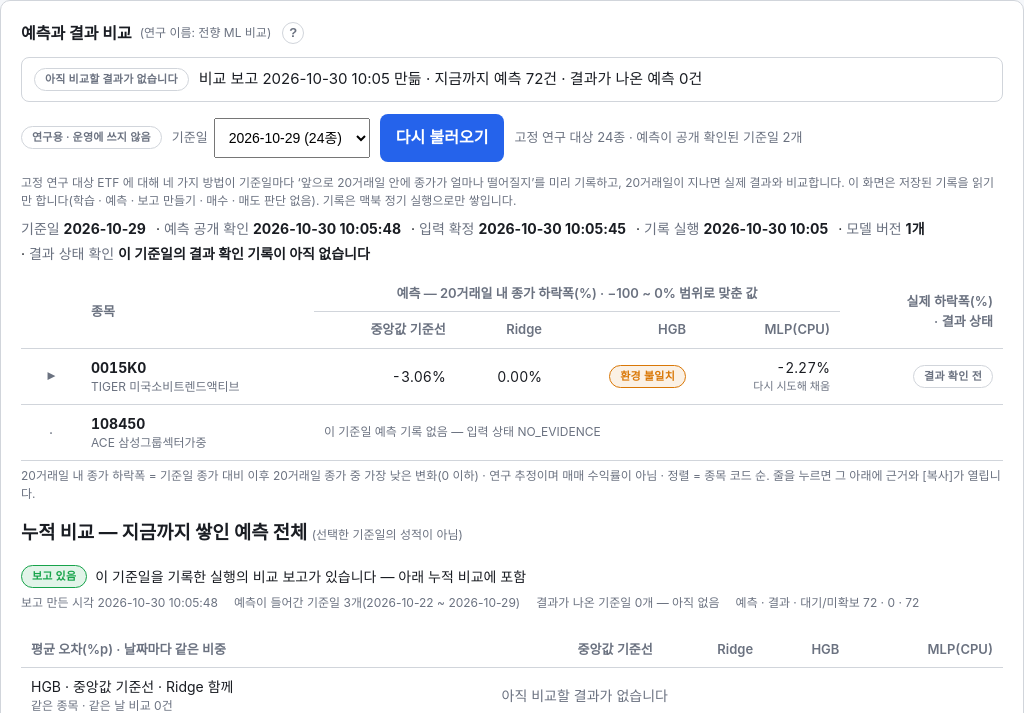
Test case: ForwardComparisonCard › 행을 누르면 그 행 바로 아래 상세 · 복사 = 화면 응답 문장(조회 없음)
Click the button named "0015K0 상세".
click(51, 376)  # box x1=31 y1=356 x2=71 y2=396
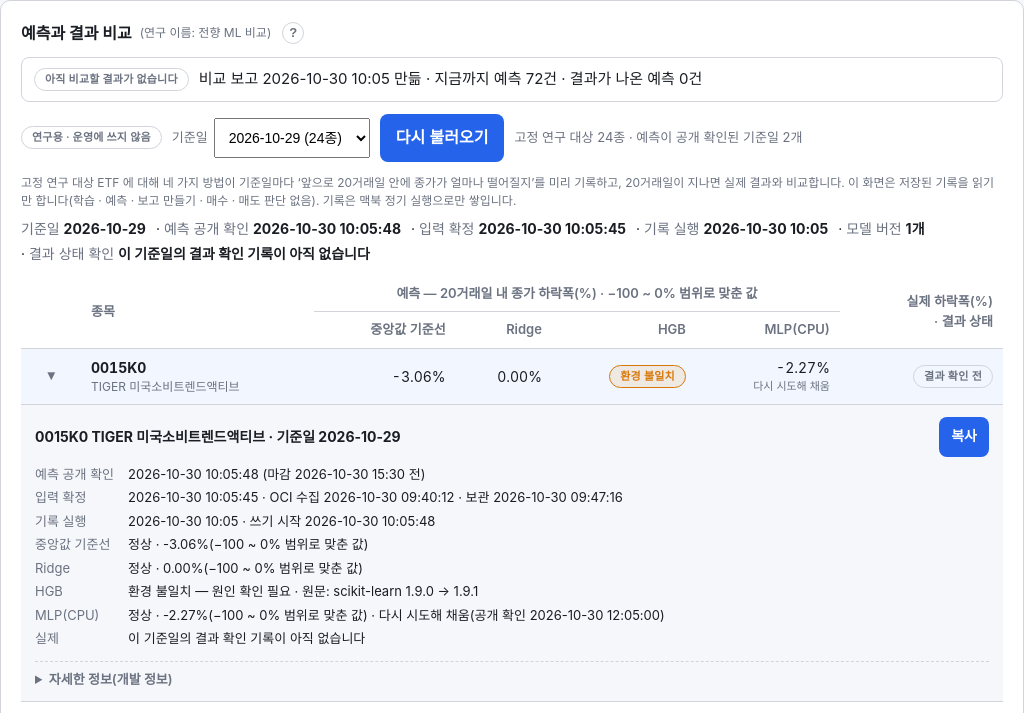
Result: the button named "0015K0 상세" is expanded at x1=31 y1=356 x2=71 y2=396
Result: the text "0015K0 TIGER 미국소비트렌드액티브 · 기준일 2026-10-29" is shown at x1=35 y1=426 x2=401 y2=447
Result: the text "환경 불일치 — 원인 확인 필요 · 원문: scikit-learn 1.9.0 → 1.9.1" is shown at x1=128 y1=583 x2=478 y2=599
Click the button "복사".
click(964, 436)  # box x1=939 y1=416 x2=989 y2=456
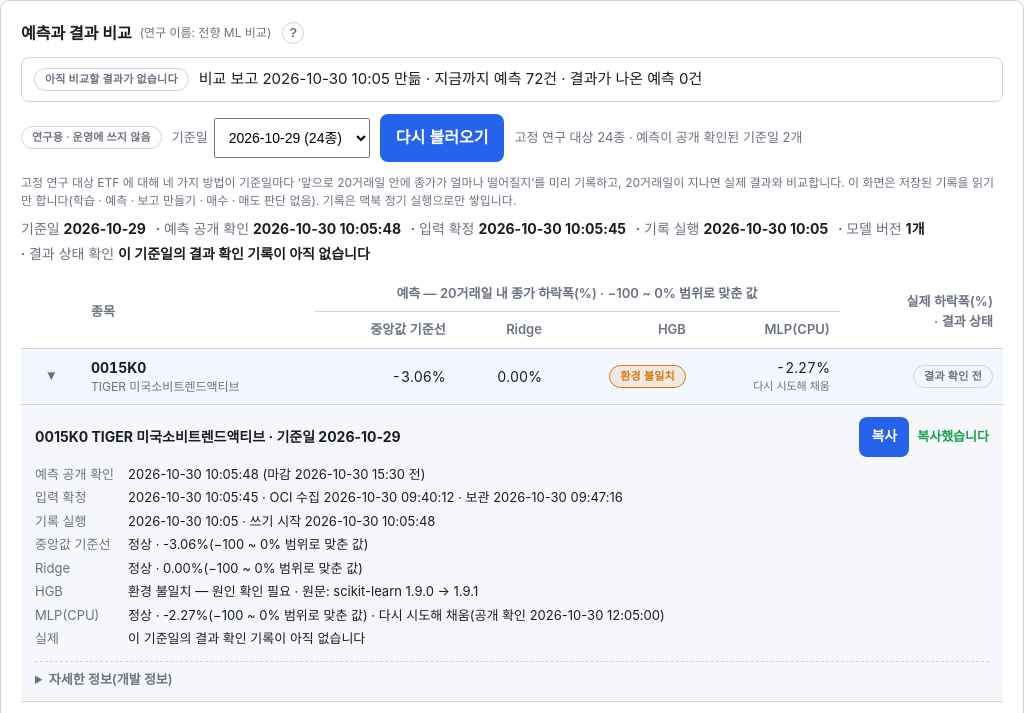
Result: the text "복사했습니다" is shown at x1=917 y1=427 x2=989 y2=446
